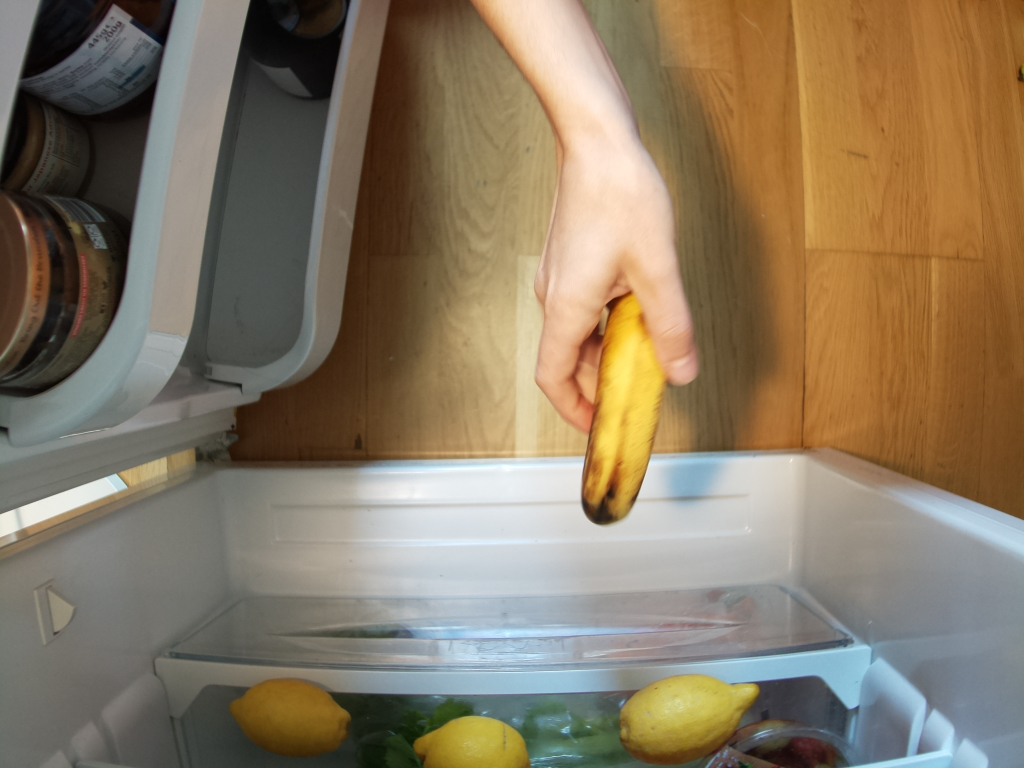banana-overripe: (584, 298, 663, 524)
